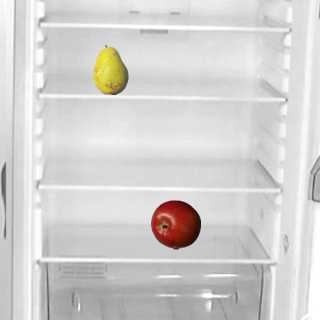Apple Braeburn: (150, 199, 200, 249)
Pear Monster: (85, 44, 135, 94)
